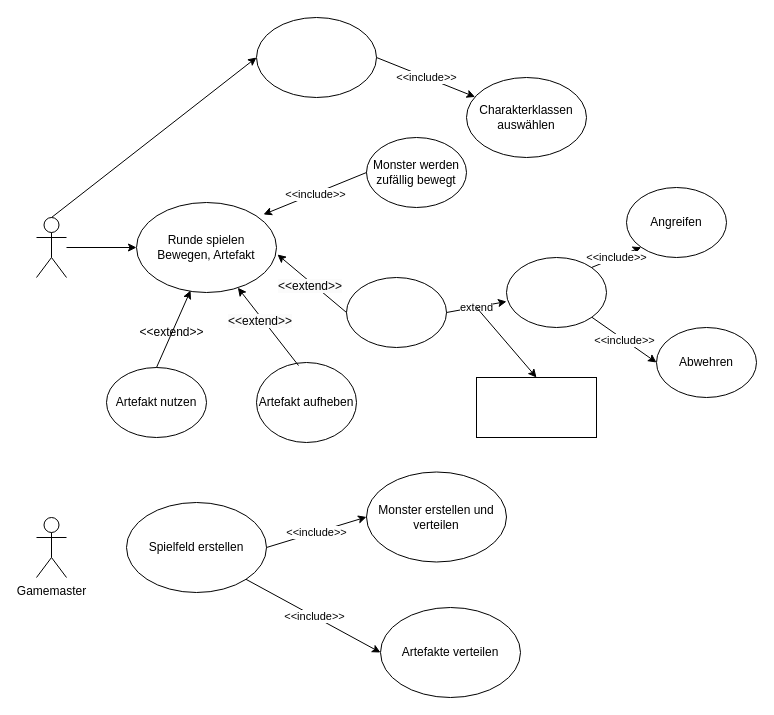
Some shapes in this 774 by 715 pixel diagram are drawn without their labels. Each missing label, with the centre of its shape:
auf Spielbrett bewegen Kampfrunde: the point at 396,312
Charakter erstellen: the point at 316,57
Condition: Monster + Spielfigur selbes Feld: the point at 536,407
Kampfrunde spielen: the point at 556,292
Player: the point at 51,247
